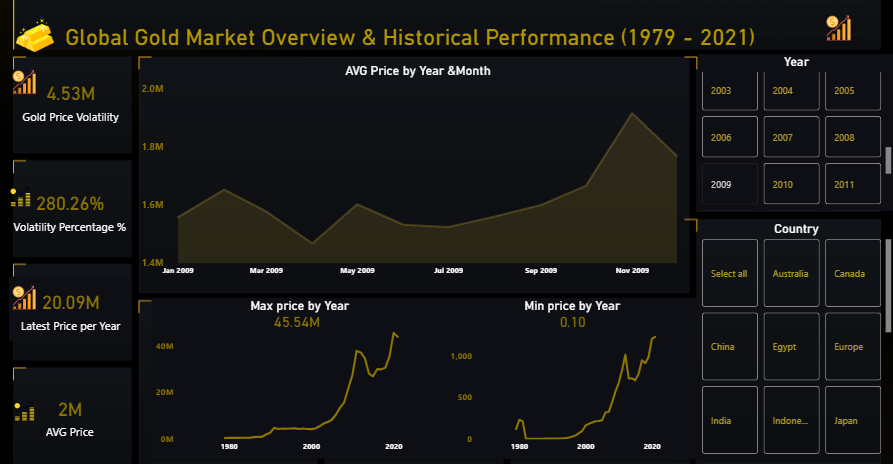

The page's visual inventory and layout, read from the dashboard file:
{"tool":"powerbi","page":{"name":"Page 1","canvas":[1280,720],"ordinal":0},"visuals":[{"type":"areaChart","title":"AVG Price by Year &Month","fields":{"Y":["Gold Prices.AVG Price"],"Category":["Dim_Date.Date.Variation.Date Hierarchy.Year","Dim_Date.Date.Variation.Date Hierarchy.Month"]},"box":[198,124,800,314],"z":0},{"type":"card","fields":{"Values":["Gold Prices.Volatility Percentage %"]},"box":[13.3,281.7,176.7,106.7],"z":1000},{"type":"advancedSlicerVisual","fields":{"Values":["Dim_Date.Date.Variation.Date Hierarchy.Year"]},"box":[998.6,111.4,281.4,224.3],"z":2000},{"type":"card","fields":{"Values":["Gold Prices.Gold Price Volatility"]},"box":[14,124,176,106],"z":3000},{"type":"card","fields":{"Values":["Gold Prices.Latest Price per Year"]},"box":[14,430,176,92],"z":4000},{"type":"card","fields":{"Values":["Gold Prices.AVG Price"]},"box":[13.3,553.3,176.7,150],"z":5000},{"type":"advancedSlicerVisual","fields":{"Values":["Gold Prices.Country"]},"box":[998.6,350,281.4,340],"z":6000},{"type":"lineChart","fields":{"Category":["Dim_Date.Year"],"Y":["Gold Prices.Max price"]},"box":[218,460,422,230],"z":8000},{"type":"lineChart","fields":{"Category":["Dim_Date.Year"],"Y":["Gold Prices.Min price"]},"box":[640,460,358,230],"z":9000},{"type":"card","fields":{"Values":["Gold Prices.Max price"]},"box":[102,476,648,38],"z":9001},{"type":"card","fields":{"Values":["Gold Prices.Min price"]},"box":[496,476,648,38],"z":9002},{"type":"card","fields":{"Values":["Gold Prices.Selected Country Summary"]},"box":[30,46,1114,78],"z":9003},{"type":"image","box":[14,46,74,78],"z":9004},{"type":"image","box":[14,576,44,92],"z":9005},{"type":"image","box":[14,126,44,52],"z":9006},{"type":"image","box":[8,282,44,68],"z":9007},{"type":"image","box":[14,436,44,48],"z":9008},{"type":"image","box":[1118,52,162,46],"z":9009}]}

Visuals, with their boxes on the page's 1280x720 design canvas (x1, y1, x2, y2). These are canvas units, not pixel positions in the 893x464 screenshot, which may show the page scaled, cropped or inside an application window:
"AVG Price by Year &Month" areaChart: (198,124,998,438)
card - Gold Prices.Volatility Percentage %: (13,282,190,388)
advancedSlicerVisual - Dim_Date.Date.Variation.Date Hierarchy.Year: (999,111,1280,336)
card - Gold Prices.Gold Price Volatility: (14,124,190,230)
card - Gold Prices.Latest Price per Year: (14,430,190,522)
card - Gold Prices.AVG Price: (13,553,190,703)
advancedSlicerVisual - Gold Prices.Country: (999,350,1280,690)
lineChart - Dim_Date.Year x Gold Prices.Max price: (218,460,640,690)
lineChart - Dim_Date.Year x Gold Prices.Min price: (640,460,998,690)
card - Gold Prices.Max price: (102,476,750,514)
card - Gold Prices.Min price: (496,476,1144,514)
card - Gold Prices.Selected Country Summary: (30,46,1144,124)
image: (14,46,88,124)
image: (14,576,58,668)
image: (14,126,58,178)
image: (8,282,52,350)
image: (14,436,58,484)
image: (1118,52,1280,98)
